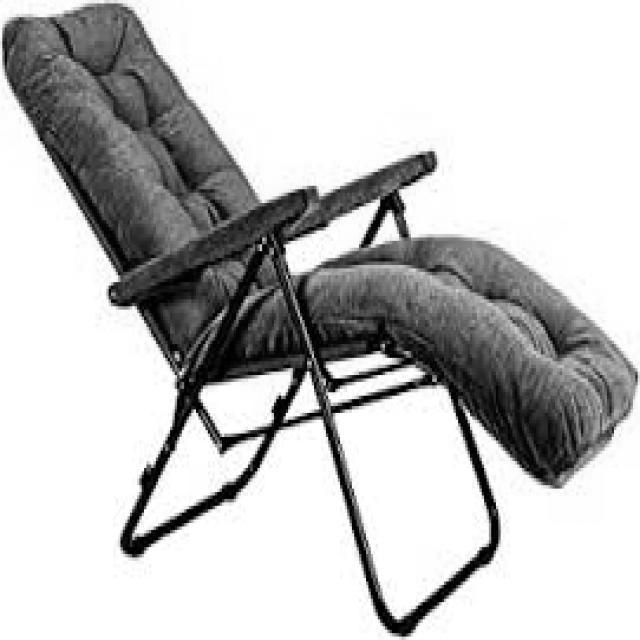chair: (0, 2, 640, 592)
